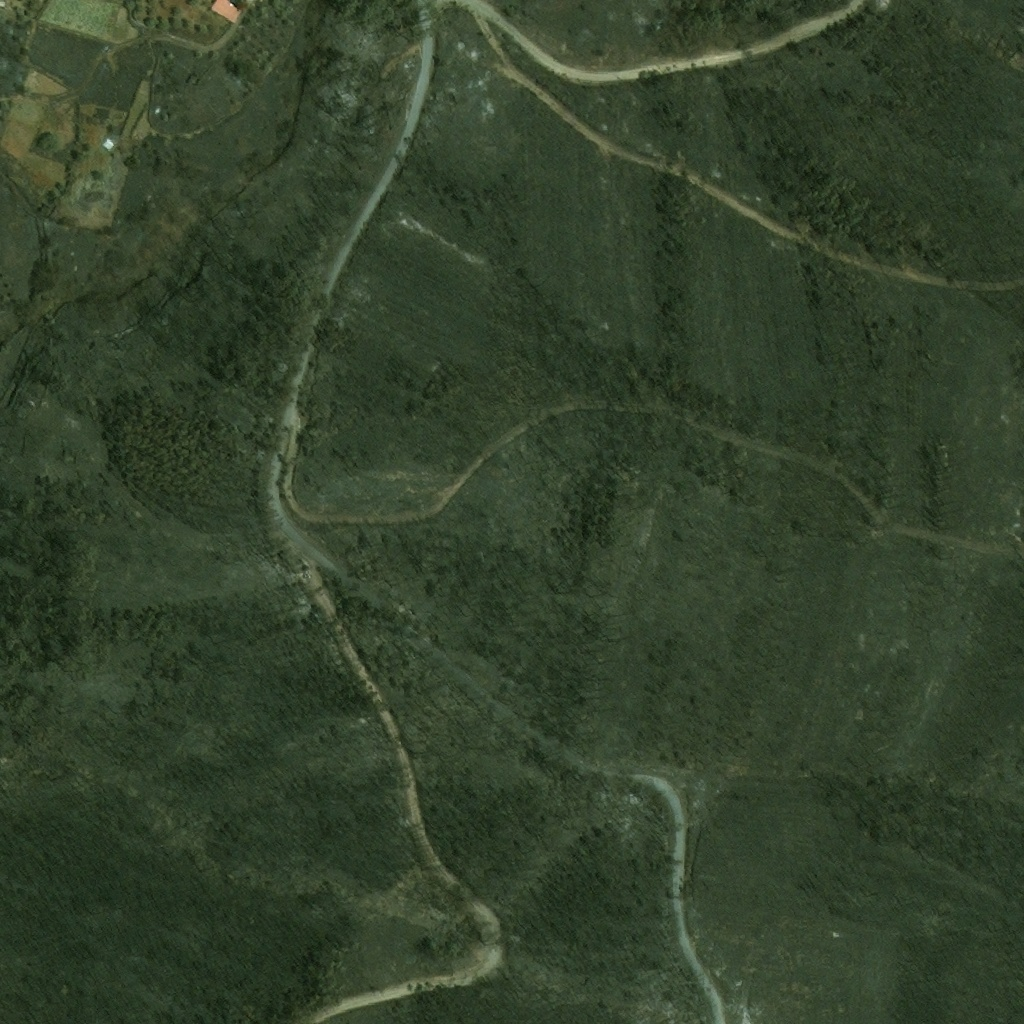0 no-damage: (211, 0, 244, 25), (102, 136, 117, 153)
